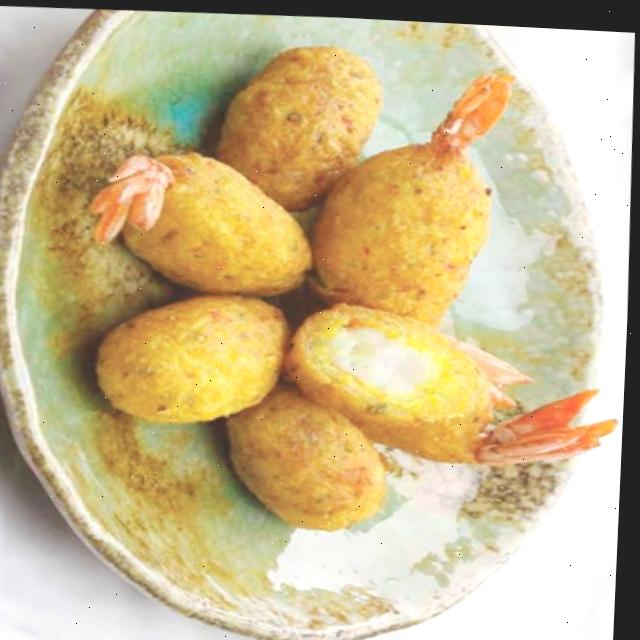炸货点心: (3, 1, 622, 634)
熟制海鲜: (3, 1, 622, 634)
